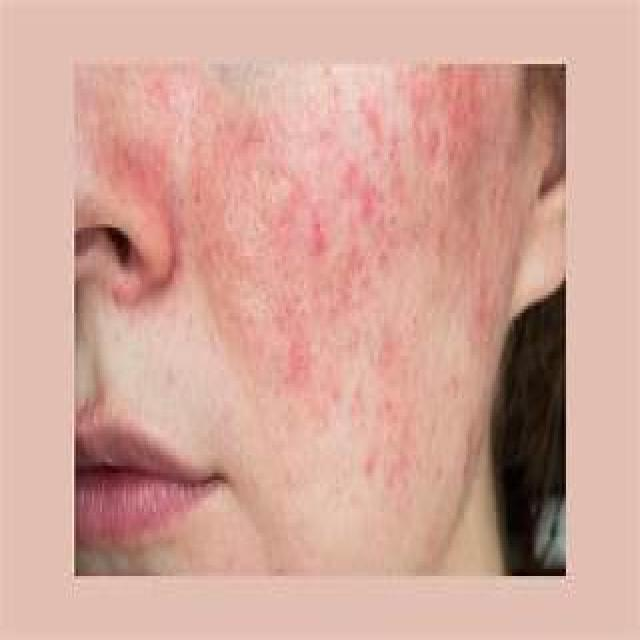Rosacea: (248, 137, 407, 372), (408, 60, 476, 181), (114, 134, 184, 245)
